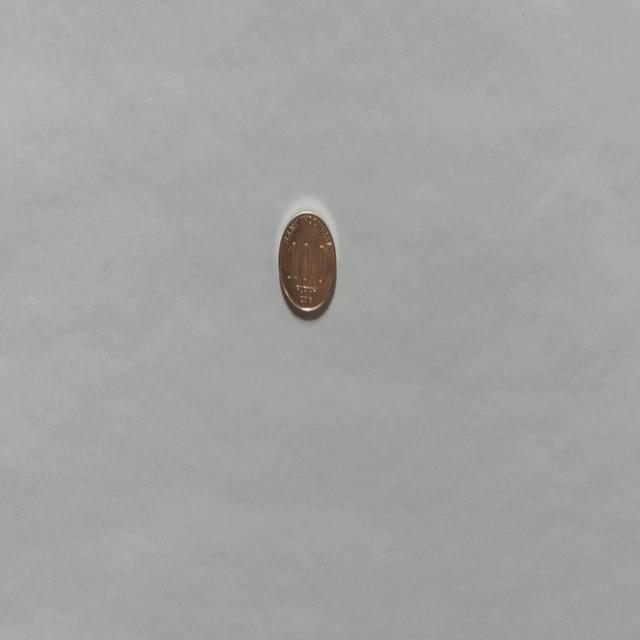seratus rupiah: (277, 208, 337, 320)
